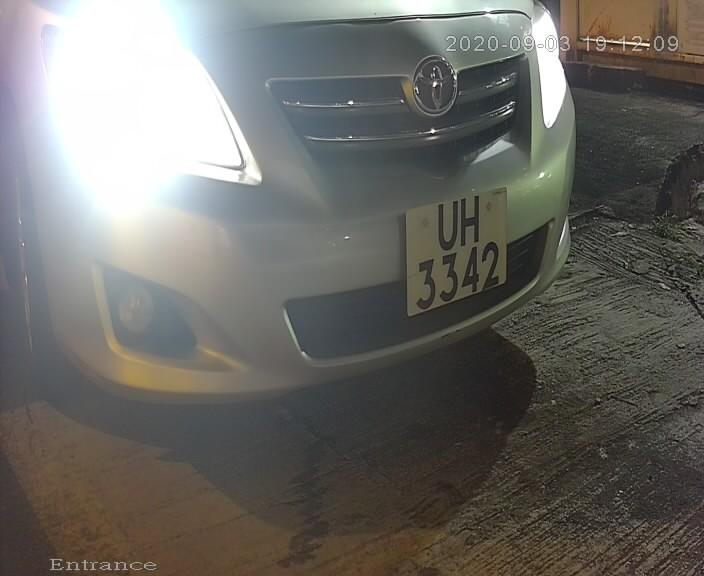Car: (10, 1, 617, 497)
License Plate: (400, 175, 516, 327)
